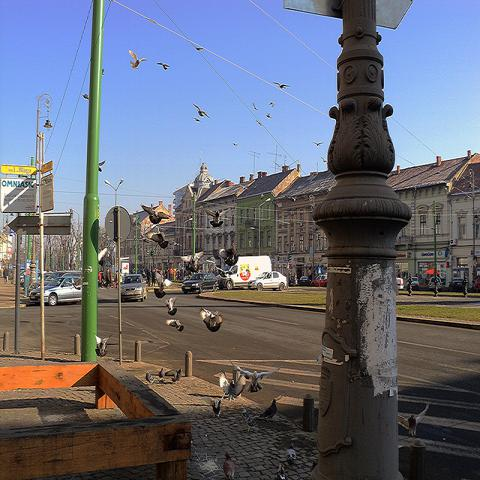car: (29, 271, 81, 307), (122, 275, 150, 307), (247, 270, 287, 292), (181, 271, 219, 292), (448, 278, 464, 292), (310, 274, 327, 287), (428, 277, 443, 291), (300, 276, 312, 286), (412, 277, 419, 291), (397, 278, 404, 289)
truck: (219, 256, 273, 287)
